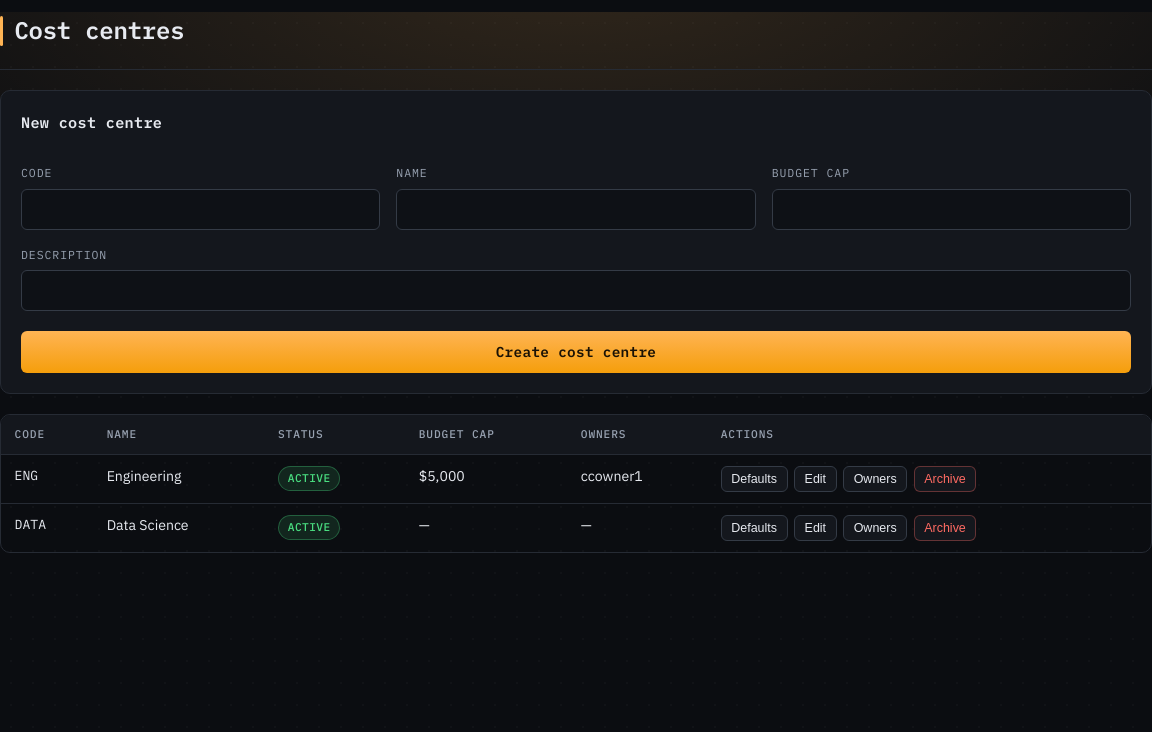
Test: CostCentresPage › toggles status when archiving a cost centre
Expected: the text "active" next to "Engineering" is shown, [288,471,331,485]
Click the button "Archive" in the row of "Engineering" at {"x": 945, "y": 479}, box [914,466,976,492]
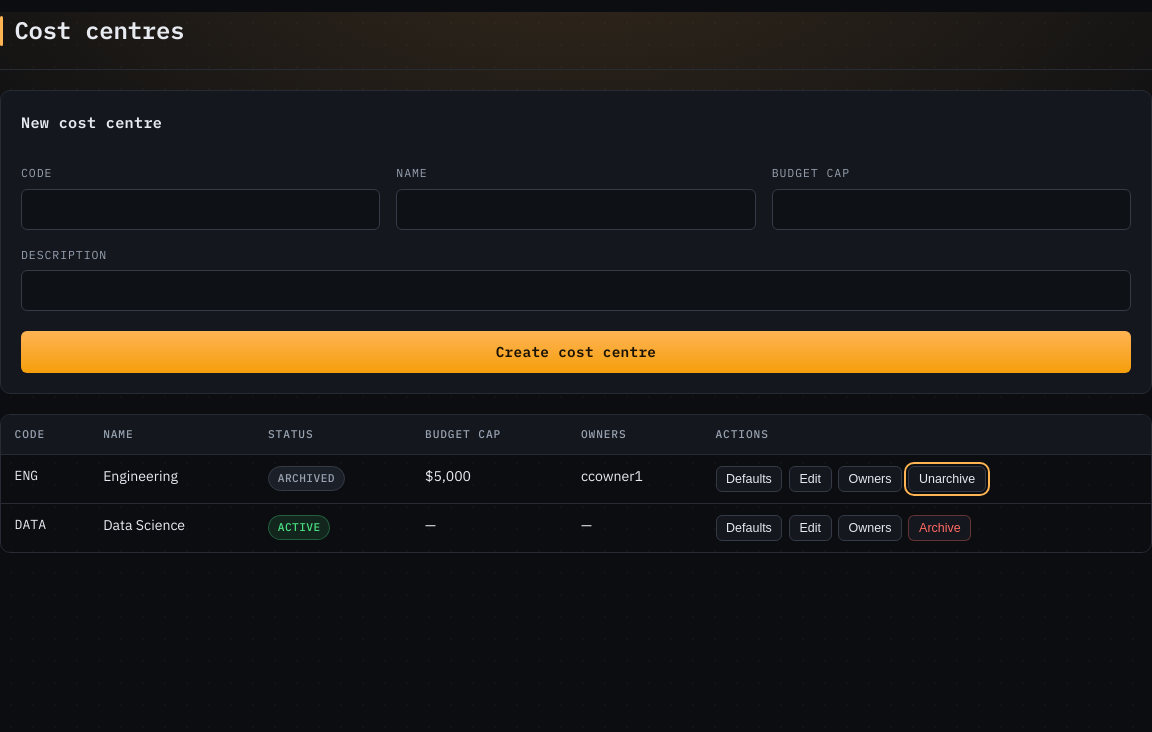
Expected: the text "archived" is shown, [268,466,345,491]
Expected: the button "Unarchive" is shown, [908,466,986,492]
